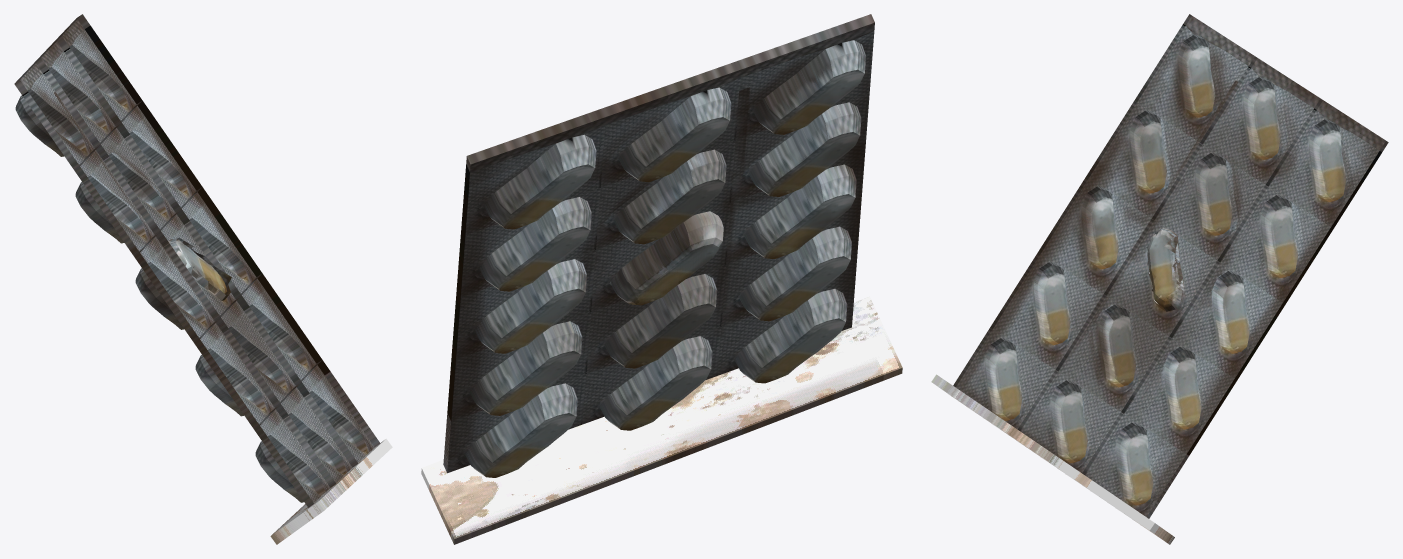
Rendered from dealer hands_expired medicine blister pack1.glb.
3 views of the same model, side by side, from view 1: azimuth 30°, elevation 25°; view 2: azimuth 150°, elevation 25°; view 3: azimuth 270°, elevation 25° (orthographic). The views are drawn at different scales.
Parts seen in each view (by area): view 1: expired medicine blister pack, Cube_001, expired medicine cap; view 2: expired medicine blister pack, Cube_001, expired medicine cap; view 3: expired medicine blister pack, Cube_001, expired medicine cap.
Part boxes in pixels (left/top/right/bottom): expired medicine blister pack: left=14, top=14, right=380, bottom=507; Cube_001: left=270, top=438, right=392, bottom=544; expired medicine cap: left=168, top=239, right=226, bottom=294; expired medicine blister pack: left=443, top=14, right=874, bottom=477; Cube_001: left=421, top=296, right=902, bottom=544; expired medicine cap: left=611, top=211, right=723, bottom=305; expired medicine blister pack: left=953, top=14, right=1388, bottom=518; Cube_001: left=931, top=374, right=1174, bottom=544; expired medicine cap: left=1147, top=228, right=1184, bottom=307.
Bounding box in the file's own units: 2.09 × 2.65 × 2.74.
Materials: 2 (2 with a texture image).
